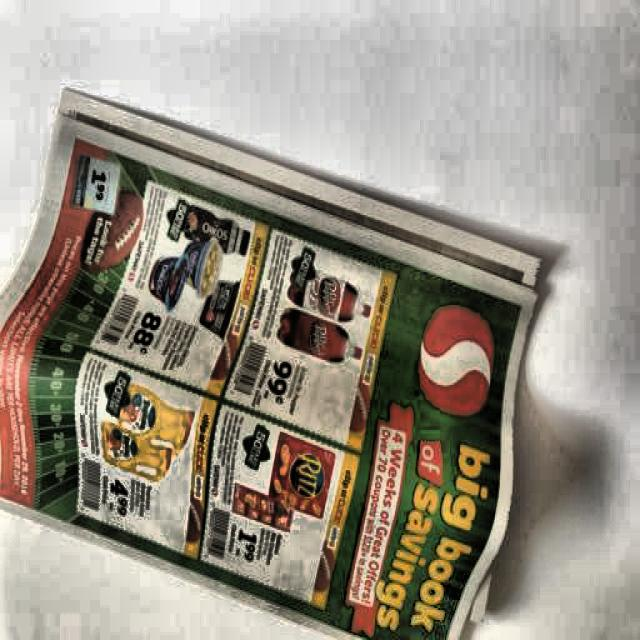paper: (11, 85, 541, 640)
